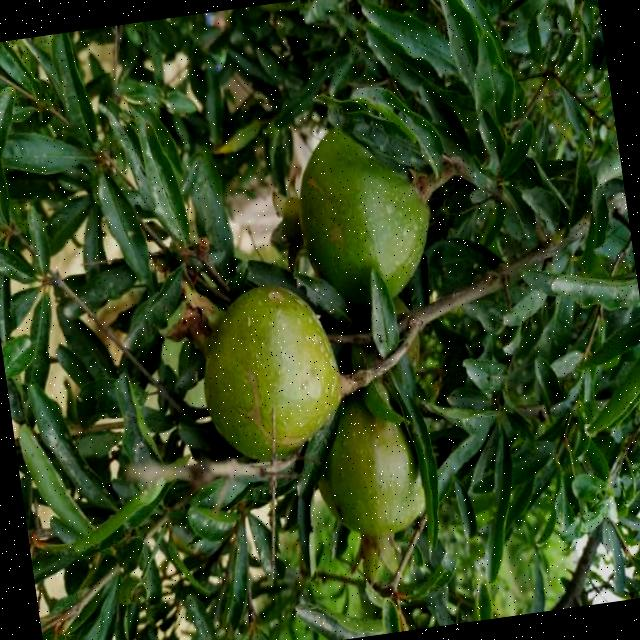Unripe: (162, 261, 352, 476), (256, 122, 438, 314)
